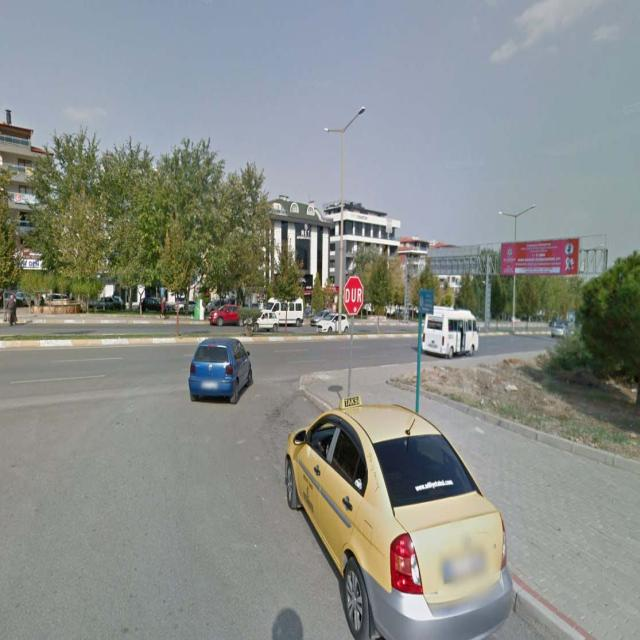dur: (344, 276, 363, 318)
